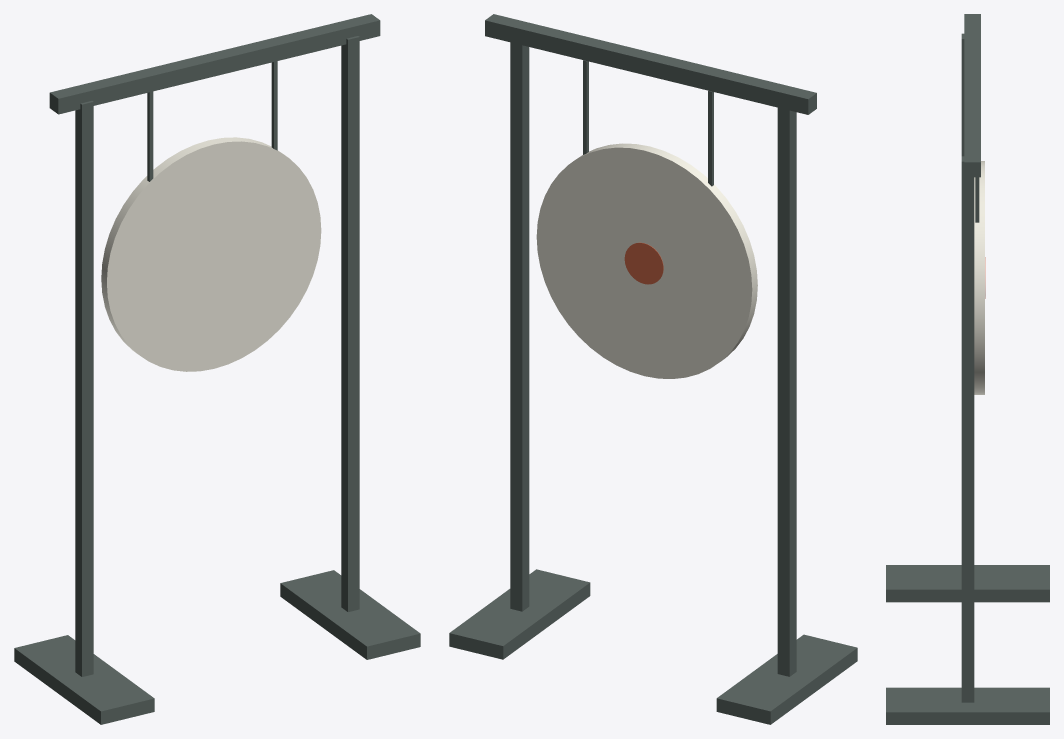
Rendered from target_gong.glb.
3 renders of one model, left to right at view 1: azimuth 30°, elevation 25°; view 2: azimuth 150°, elevation 25°; view 3: azimuth 270°, elevation 25°, orthographic. The views are drawn at different scales.
Visible parts, largest first — view 1: static_batch_1_0, hit_surface; view 2: static_batch_1_0, hit_surface, center_mark; view 3: static_batch_1_0, hit_surface.
Part boxes in pixels (<box>): static_batch_1_0: <box>14,14,420,724</box>; hit_surface: <box>101,137,321,371</box>; static_batch_1_0: <box>449,14,857,724</box>; hit_surface: <box>536,143,757,378</box>; center_mark: <box>624,242,663,284</box>; static_batch_1_0: <box>886,14,1049,724</box>; hit_surface: <box>974,161,984,394</box>.
Bounding box in the file's own units: 1.5 × 2.65 × 0.7.
